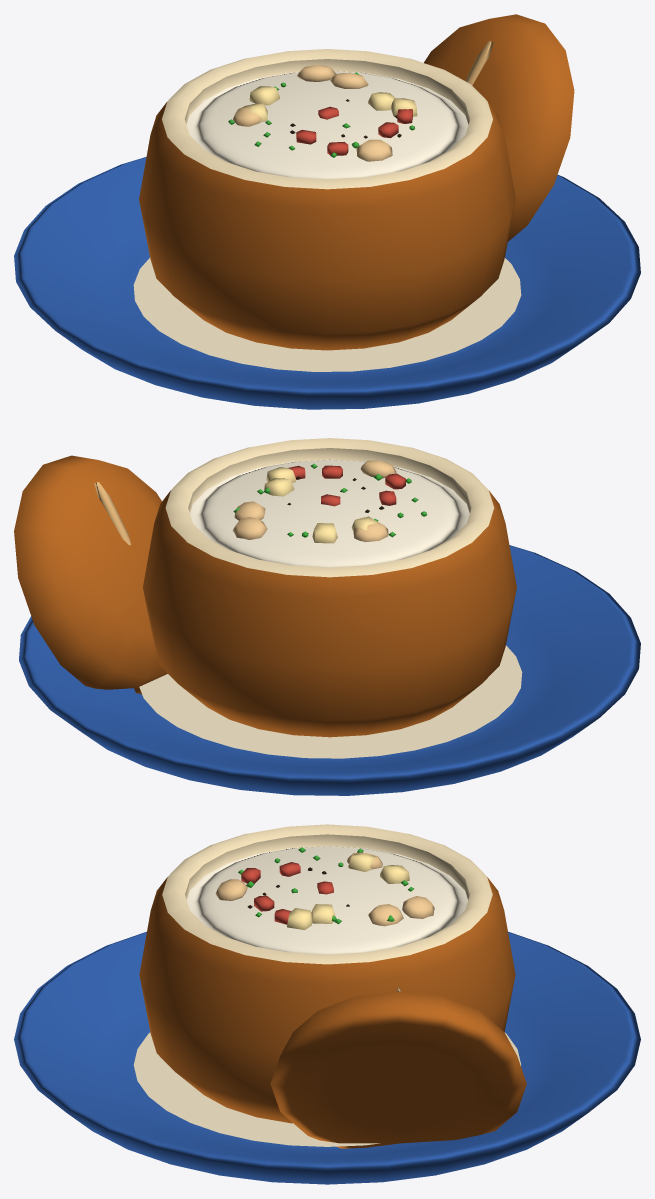
The picture shows the model from 3 angles, top to bottom: view 1: azimuth 30°, elevation 25°; view 2: azimuth 150°, elevation 25°; view 3: azimuth 270°, elevation 25°; orthographic projection.
Visible parts, largest first — view 1: bread, plate, chowder, lid, plate_well, crumb_rim, crumb_inner, clams, potato, bacon; view 2: bread, plate, lid, chowder, plate_well, crumb_rim, crumb_inner, clams, potato, bacon, scores; view 3: plate, bread, lid, chowder, crumb_rim, plate_well, crumb_inner, clams, potato, bacon.
Boxes of the visible parts, x1,y1,x2,y2 form: bread: [139, 102, 515, 350]; plate: [14, 157, 640, 409]; chowder: [186, 71, 468, 179]; lid: [424, 14, 574, 241]; plate_well: [133, 258, 521, 371]; crumb_rim: [162, 49, 492, 189]; crumb_inner: [184, 59, 470, 124]; clams: [233, 65, 392, 161]; potato: [244, 86, 417, 122]; bacon: [296, 106, 412, 155]; bread: [143, 490, 516, 737]; plate: [19, 545, 640, 795]; lid: [14, 455, 167, 694]; chowder: [190, 459, 469, 567]; plate_well: [139, 645, 522, 758]; crumb_rim: [165, 438, 494, 577]; crumb_inner: [188, 448, 471, 513]; clams: [232, 460, 396, 541]; potato: [264, 467, 378, 543]; bacon: [288, 465, 405, 506]; scores: [94, 482, 130, 545]; plate: [14, 931, 640, 1184]; bread: [139, 877, 515, 1123]; lid: [270, 991, 526, 1148]; chowder: [187, 846, 467, 954]; crumb_rim: [162, 824, 492, 964]; plate_well: [133, 1032, 521, 1146]; crumb_inner: [185, 834, 469, 899]; clams: [215, 852, 434, 926]; potato: [287, 852, 409, 929]; bacon: [241, 862, 333, 924].
Size of the model in its own units: 0.22 by 0.0799 by 0.22.
